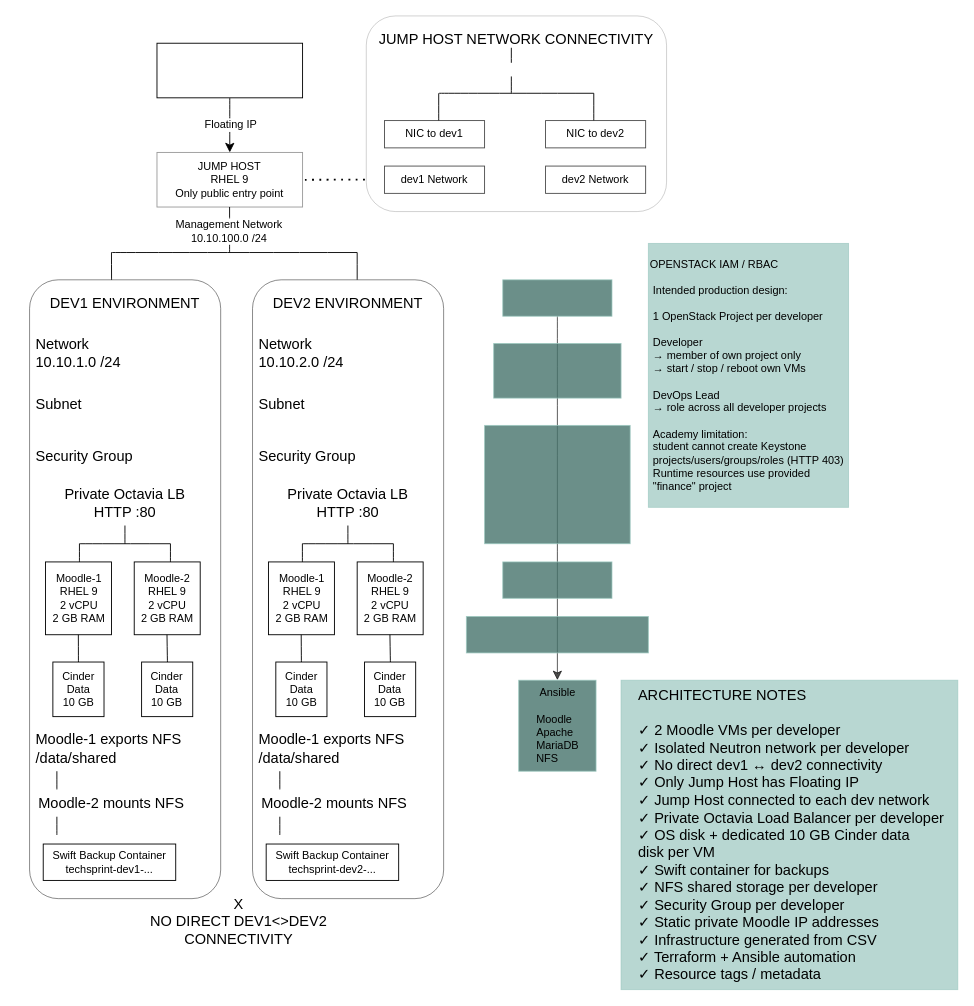
Image size: 974x1006. Some labels were removed from this diagram. Here are the shapes that lost their labels. From the top down, the box of each, then its label:
(156, 42, 303, 98): EXTERNAL NETWORK provider-datacentre
(502, 279, 612, 316): data/users.csv
(493, 343, 621, 398): Terraform CSV-driven IaC for_each
(484, 425, 630, 544): OpenStack Infrastructure Neutron Nova Ciner Swift Octavia
(502, 561, 612, 598): Terraform outputs
(465, 616, 648, 653): Python Inventory Generator
